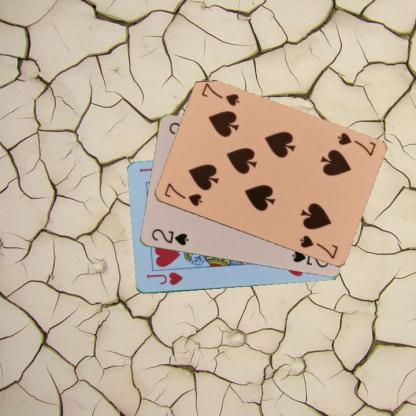2s: (148, 226, 190, 247)
7s: (334, 130, 378, 158), (162, 180, 204, 208)
Jh: (144, 270, 184, 286)
